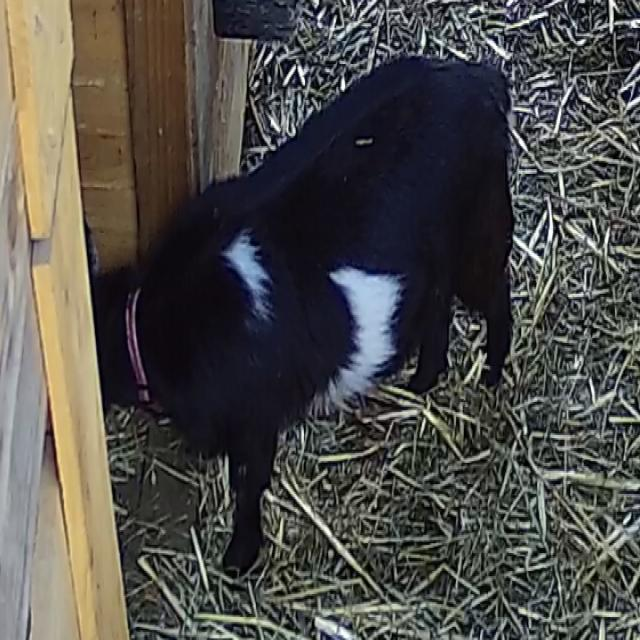goat: (70, 38, 524, 606)
